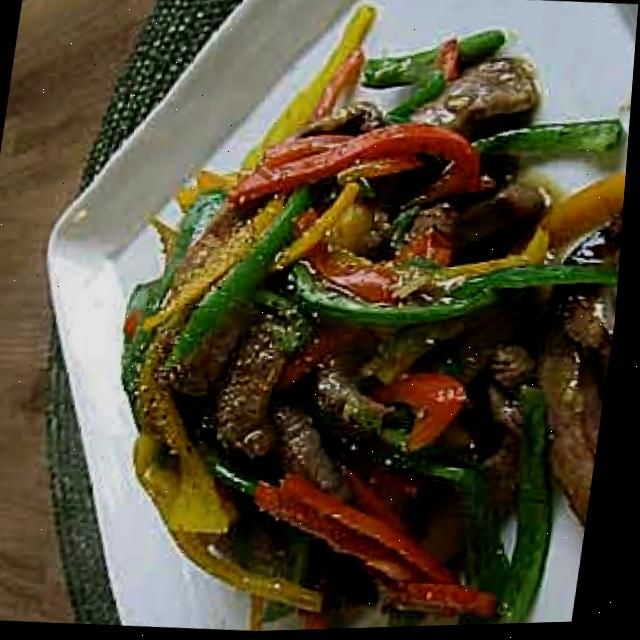牛肉菜式: (41, 0, 640, 638)
